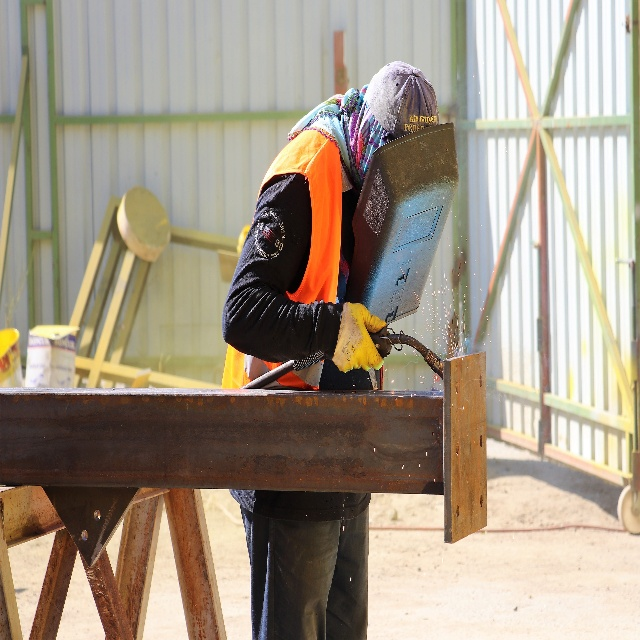Gafas: (368, 326, 444, 377)
Guantes: (332, 301, 385, 375)
